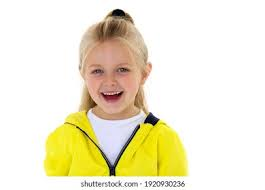person: (79, 8, 154, 115)
